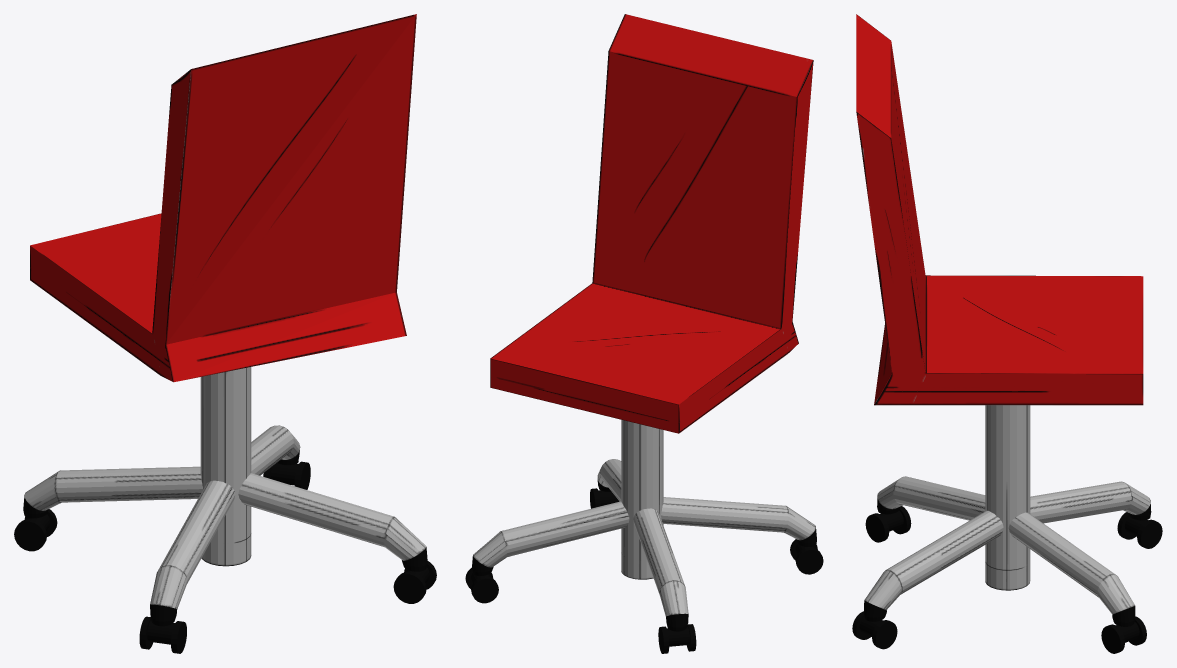
File: stoelrood.fbx
3 views of the same model, side by side, from view 1: azimuth 30°, elevation 25°; view 2: azimuth 150°, elevation 25°; view 3: azimuth 270°, elevation 25° (orthographic). The views are drawn at different scales.
Parts seen in each view (by area): view 1: stoelred; view 2: stoelred; view 3: stoelred.
Part boxes in pixels (box(x1,y1,x2,y2)): stoelred: box(14, 14, 436, 653); stoelred: box(465, 14, 823, 653); stoelred: box(852, 14, 1162, 653).
Size of the model in its own units: 0.7727 by 1.46 by 0.7772.
